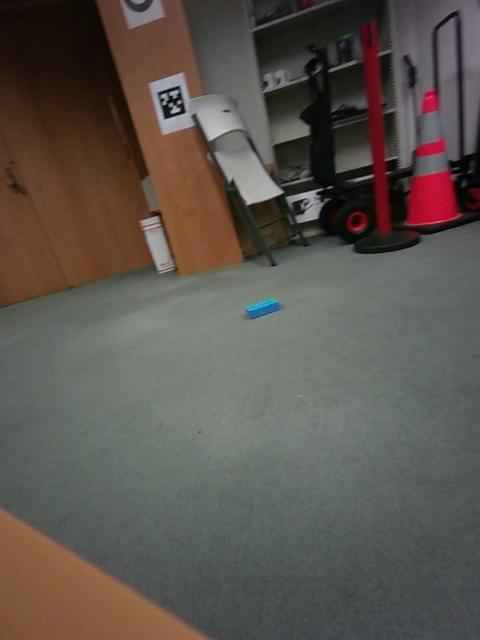block: (125, 334, 173, 398)
